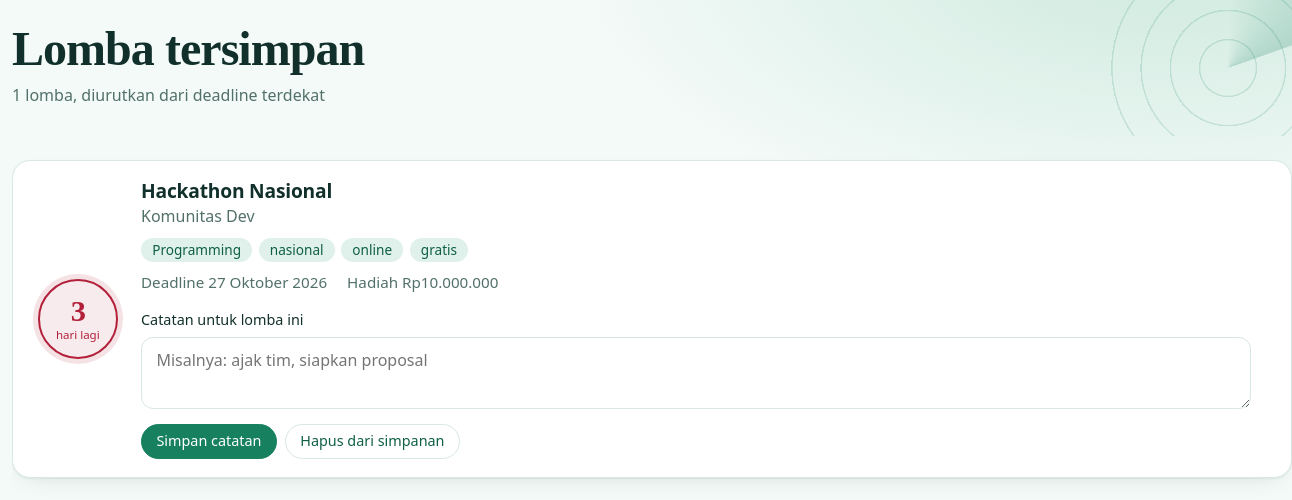
it: Tersimpan › status "Catatan disimpan" hilang saat catatan diedit lagi
Click the button "Simpan catatan" at [209, 441], box [141,424,277,459]
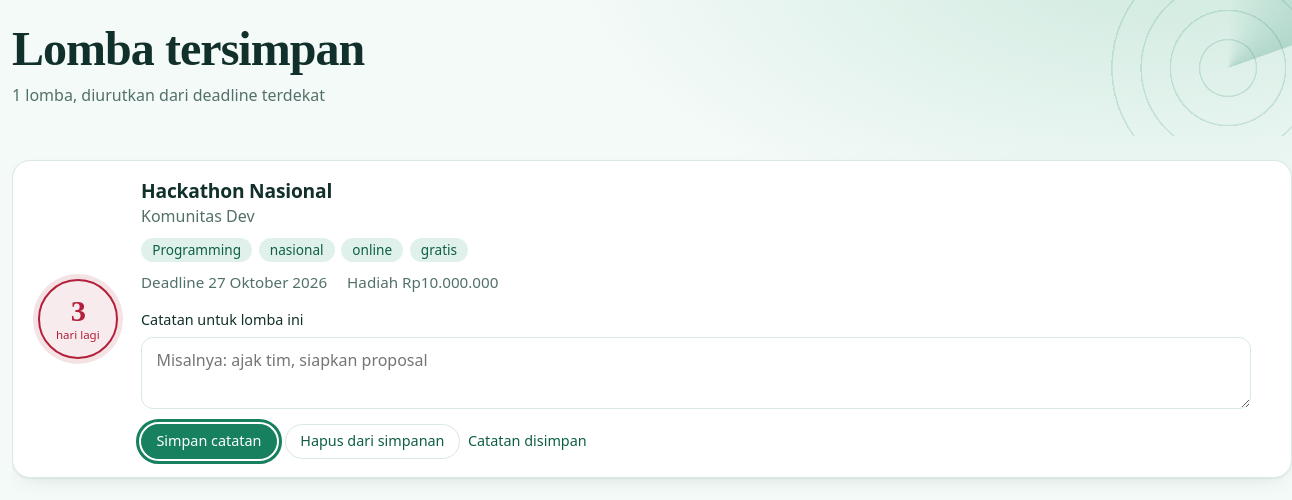
Now the message "Catatan disimpan" is shown, box [468,430,587,453]
Type "x" into the text box labelled "Catatan untuk lomba ini" at [696, 373], box [141,336,1251,409]
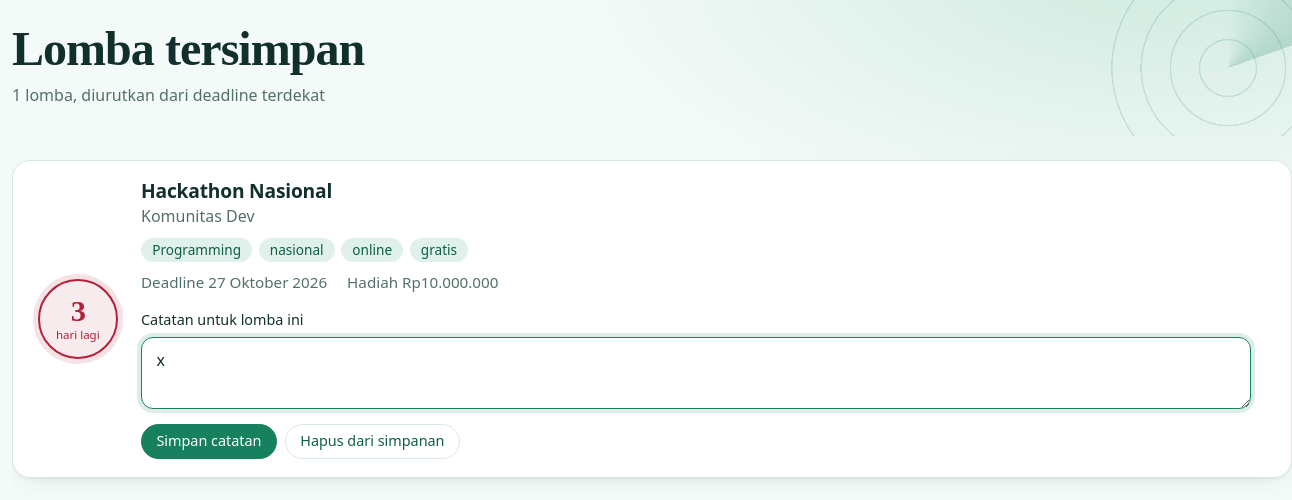
Now the message "Catatan disimpan" is gone
